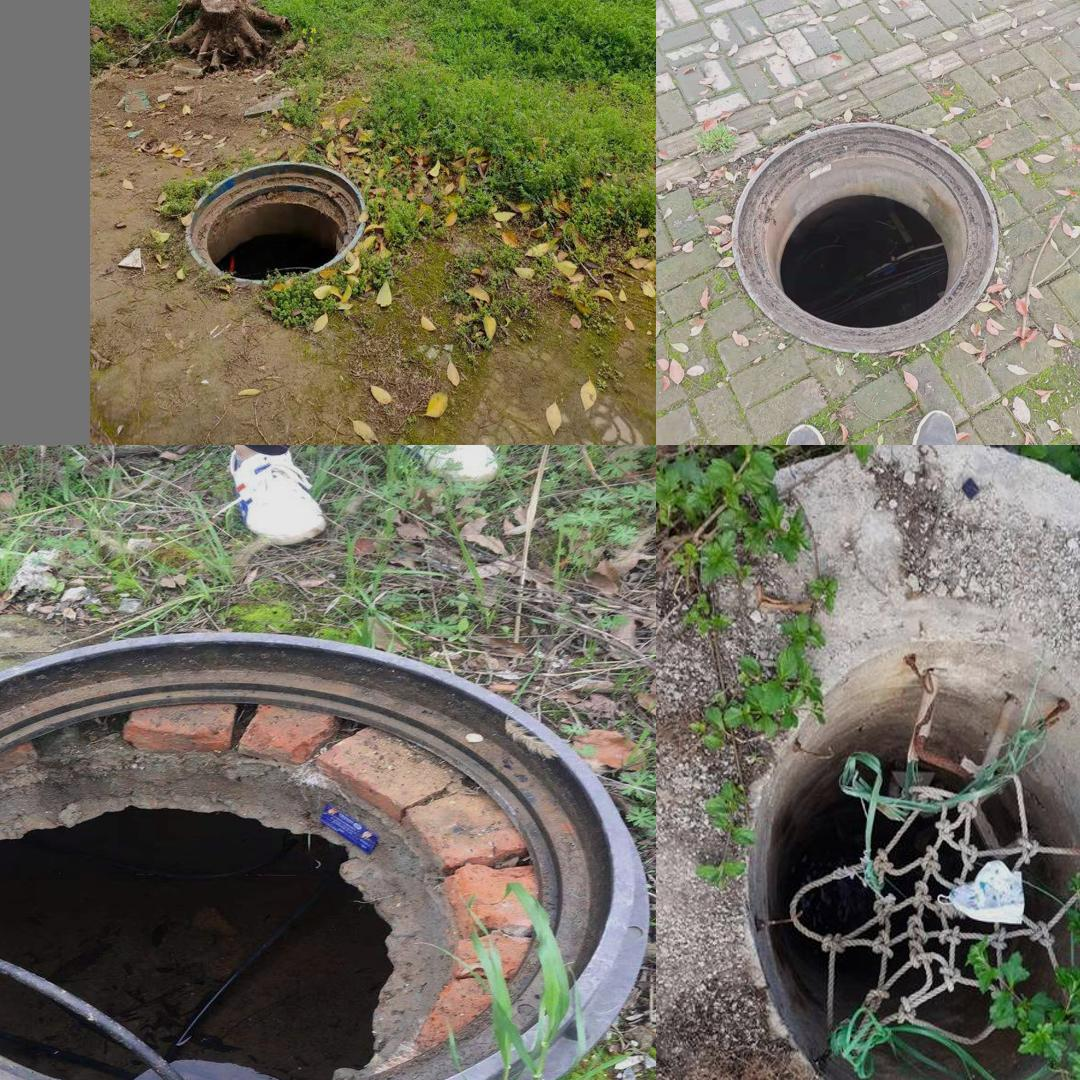lose: (0, 633, 655, 1080), (718, 627, 1080, 1080), (730, 121, 999, 357), (189, 161, 369, 288)
